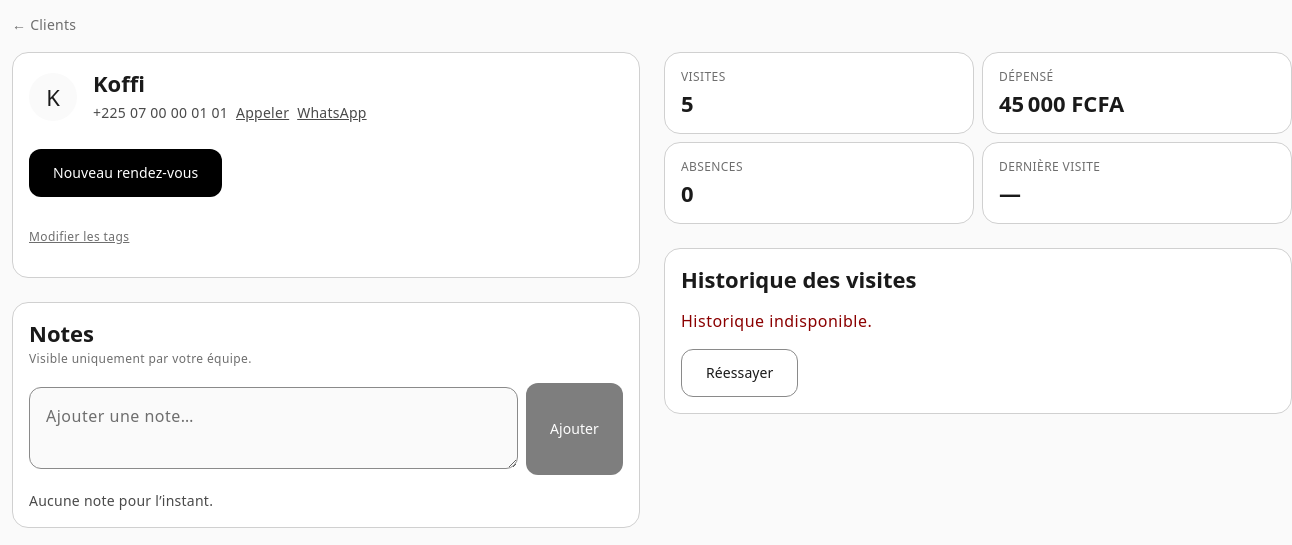
Test: La fiche client — the visit history (B4.1) › « Réessayer » reads the history again
The image size is (1292, 545).
Check: the text "Historique indisponible." is shown, box left=681, top=310, right=872, bottom=332
Click the button "Réessayer" at (740, 373), box left=681, top=349, right=798, bottom=397
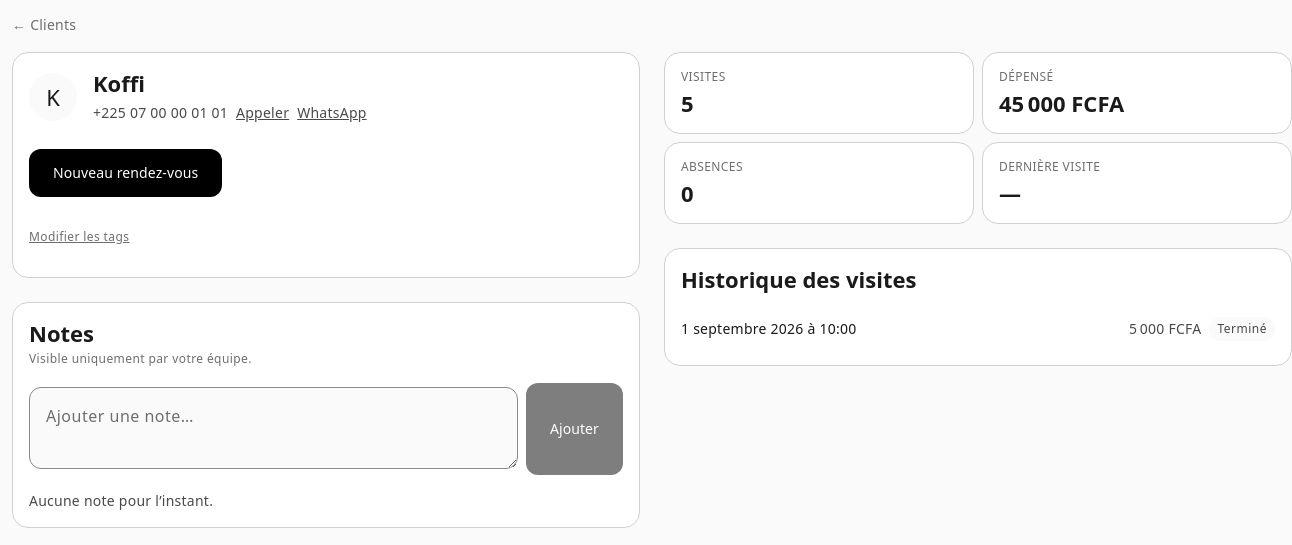
Check: the text "Historique indisponible." is gone
